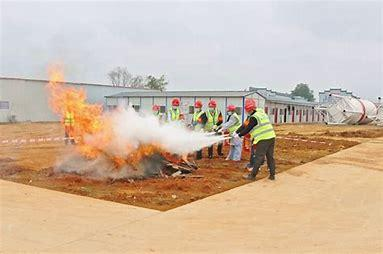smoke: (47, 65, 106, 152), (80, 135, 191, 171)
